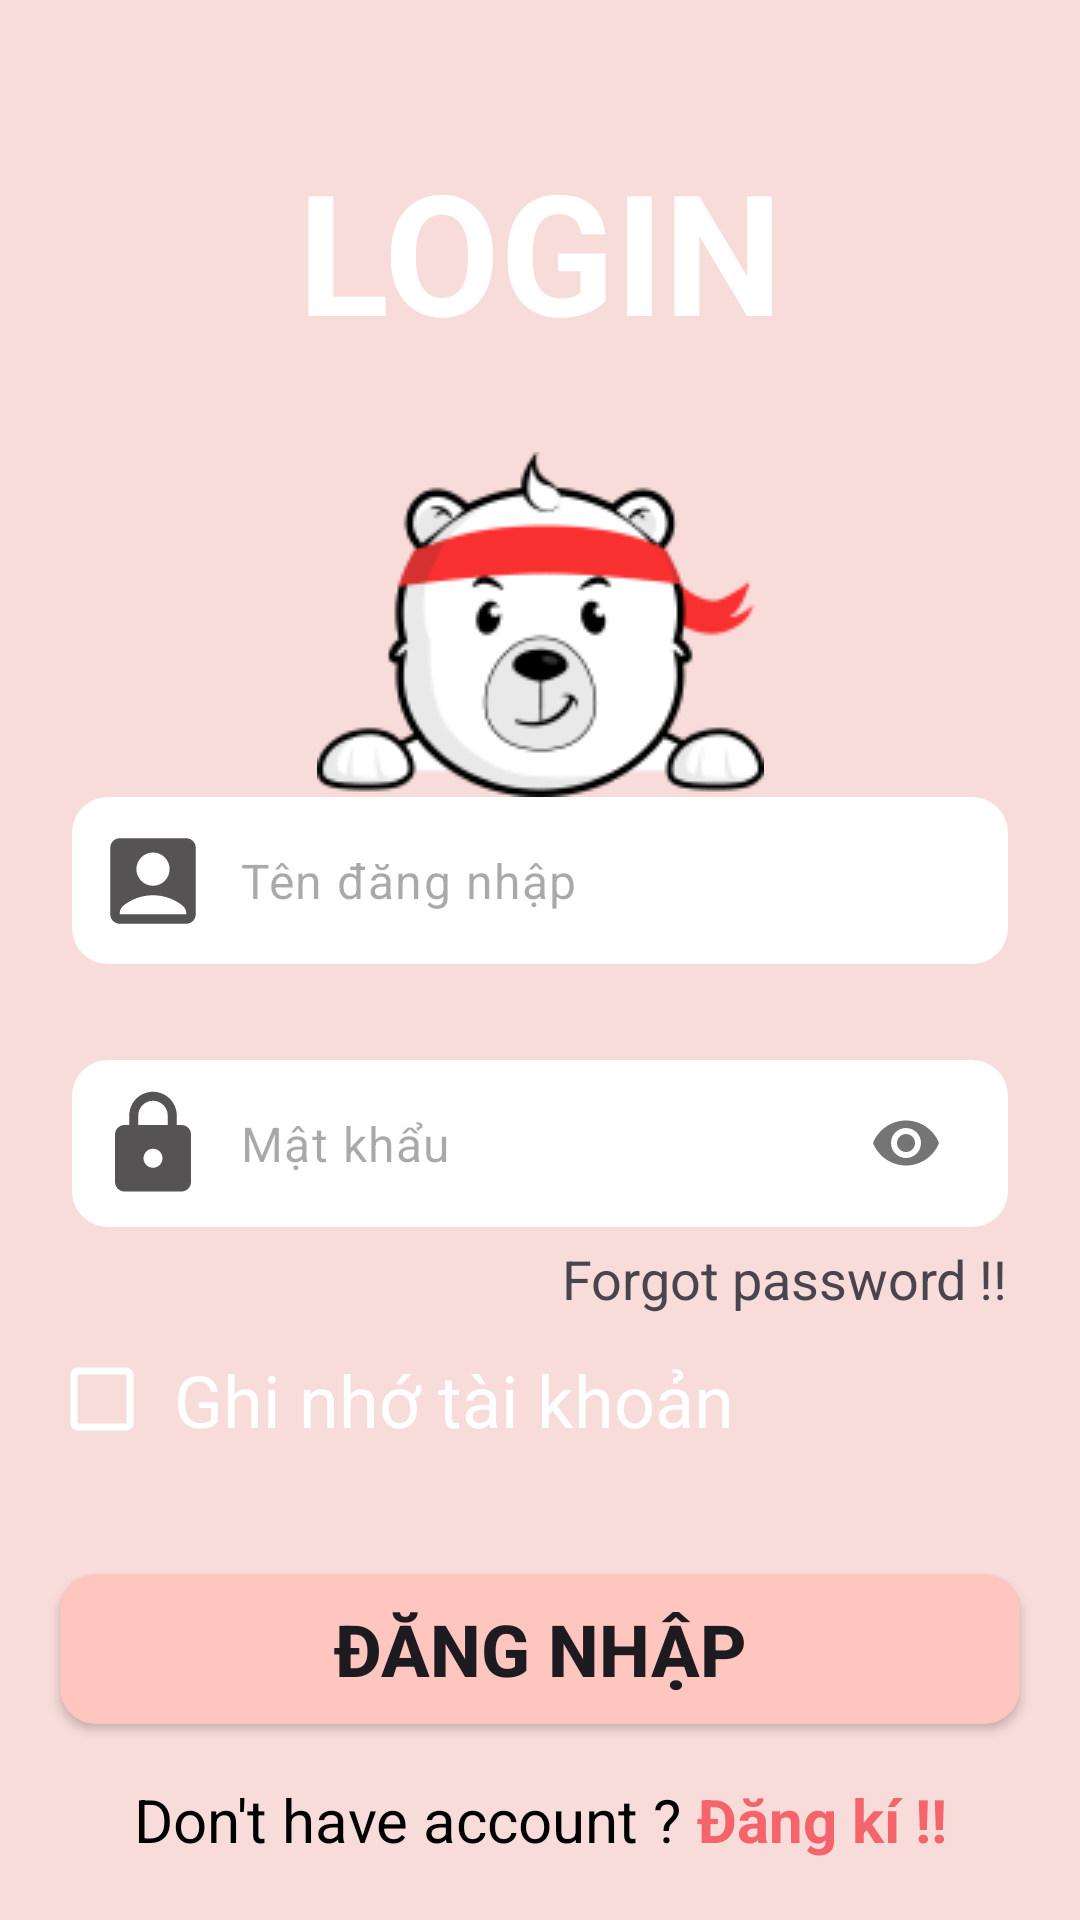

Point at icon controls on the screen. Image size 1080px×1920px, points as (x,y).
checkbox remember: (102,1399)
lock: (153,1141)
